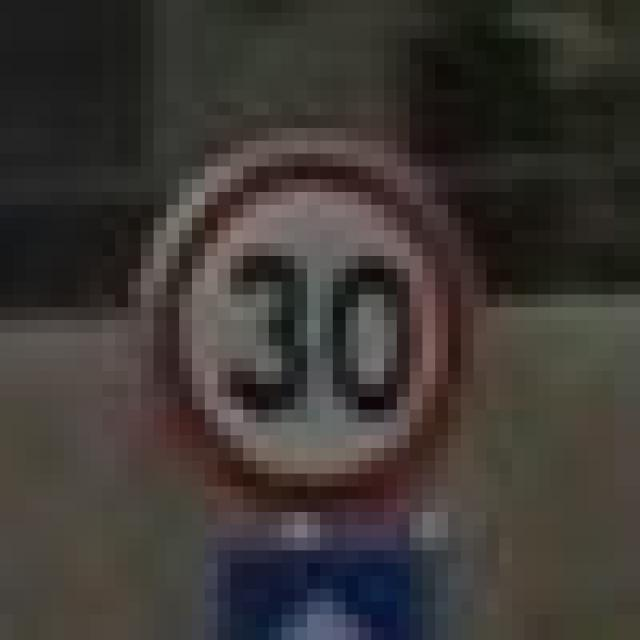SPEED_LIMIT_30: (115, 102, 474, 525)
